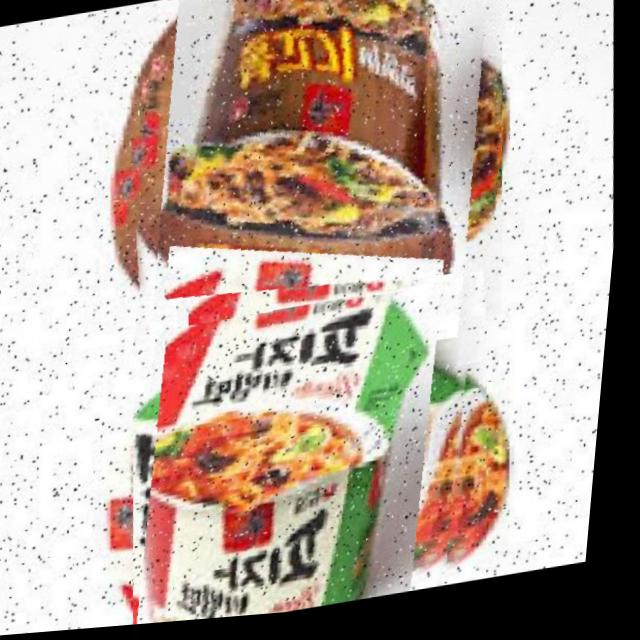Miscellaneous: (94, 0, 532, 384), (117, 282, 508, 630)
